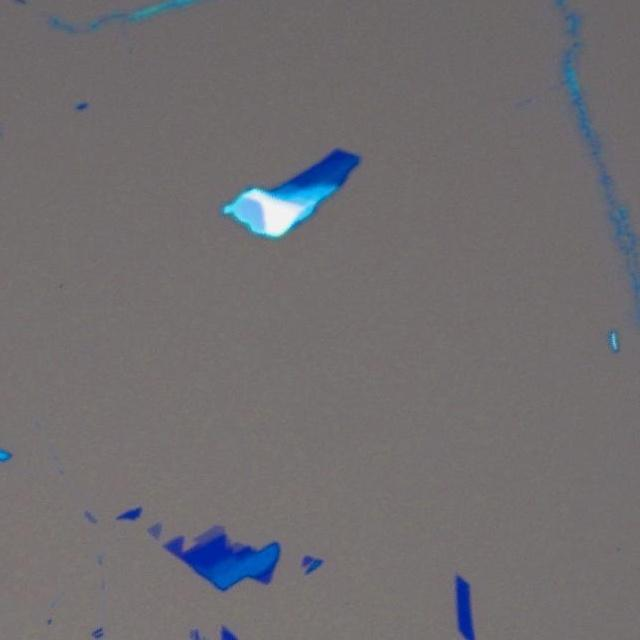monolayer-eWW4: (194, 522, 226, 545), (146, 520, 163, 540), (232, 541, 246, 555)
